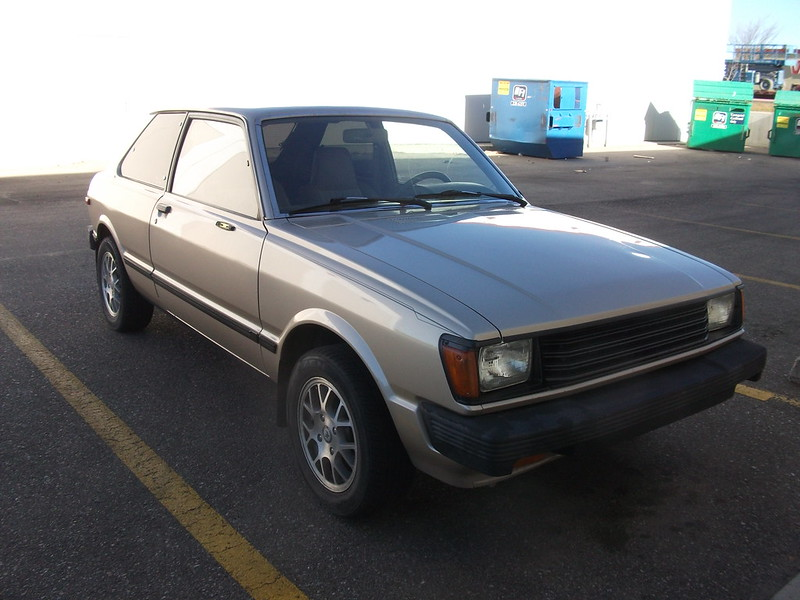car: (83, 99, 773, 524)
